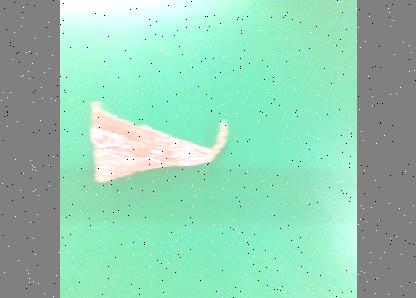Others: (88, 113, 230, 184)
